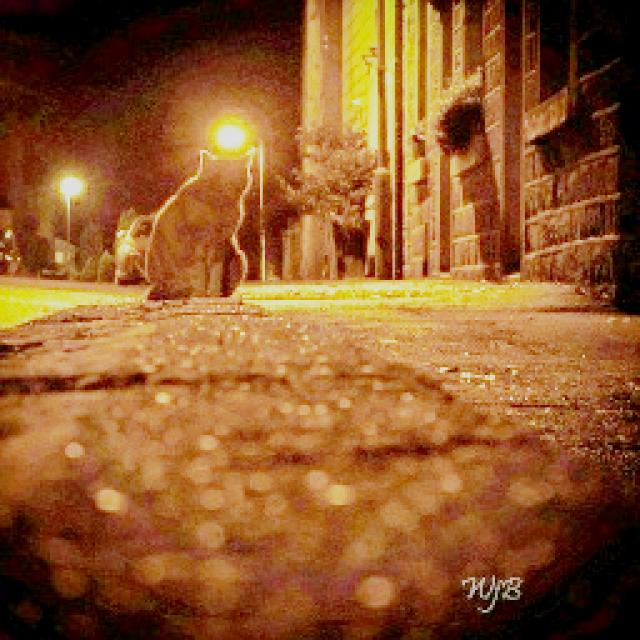cat: (134, 142, 261, 306)
